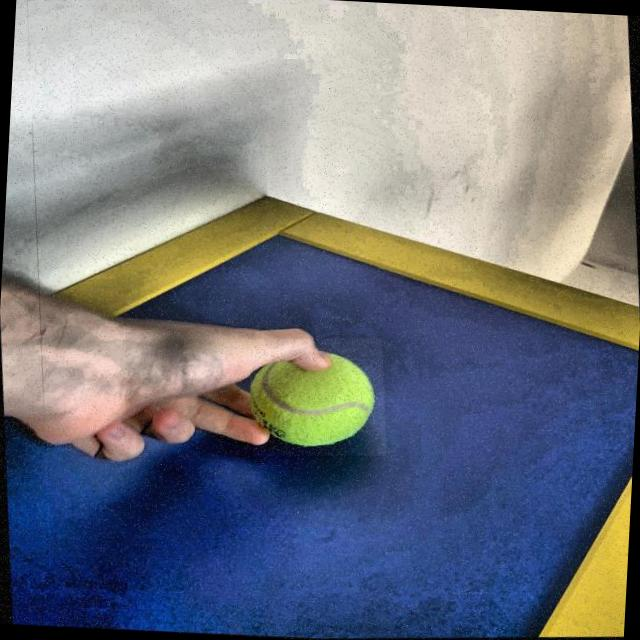Tennis Ball: (243, 332, 394, 464)
